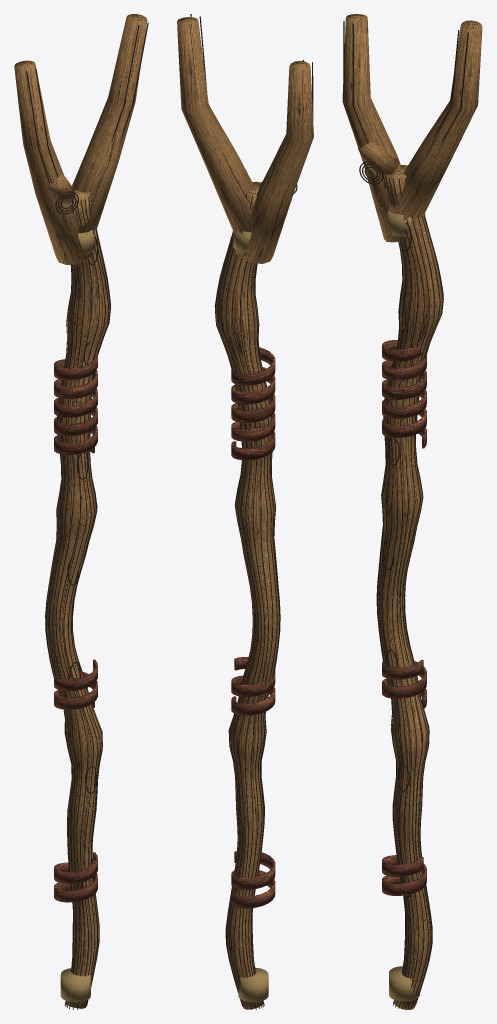
File: WM-03-raw-wood-staff.glb
3 renders of one model, left to right at view 1: azimuth 30°, elevation 25°; view 2: azimuth 150°, elevation 25°; view 3: azimuth 330°, elevation 25°, orthographic. The views are drawn at different scales.
Visible parts, largest first — view 1: WM-03_Solid_wood_shaft.001, WM-03_Long_carved_grain.001, WM-03_Fork_branch_1.001, WM-03_Fork_branch_0.001, WM-03_Helical_grip.003, WM-03_Helical_grip.005, WM-03_Helical_grip.004, WM-03_Metal_ferrule.002, WM03_Natural_branch_stub.001, WM-03_Metal_ferrule.003; view 2: WM-03_Solid_wood_shaft.001, WM-03_Long_carved_grain.001, WM-03_Fork_branch_1.001, WM-03_Fork_branch_0.001, WM-03_Helical_grip.003, WM-03_Helical_grip.005, WM-03_Helical_grip.004, WM-03_Metal_ferrule.002; view 3: WM-03_Solid_wood_shaft.001, WM-03_Long_carved_grain.001, WM-03_Fork_branch_1.001, WM-03_Fork_branch_0.001, WM-03_Helical_grip.003, WM-03_Helical_grip.005, WM-03_Helical_grip.004, WM03_Natural_branch_stub.001, WM-03_Metal_ferrule.002, WM-03_Metal_ferrule.003.
Boxes of the visible parts, x1,y1,x2,y2 form: WM-03_Solid_wood_shaft.001: [46, 185, 110, 1008]; WM-03_Long_carved_grain.001: [45, 194, 110, 1009]; WM-03_Fork_branch_1.001: [72, 14, 147, 234]; WM-03_Fork_branch_0.001: [14, 60, 93, 264]; WM-03_Helical_grip.003: [54, 354, 97, 454]; WM-03_Helical_grip.005: [54, 852, 97, 902]; WM-03_Helical_grip.004: [54, 659, 97, 709]; WM-03_Metal_ferrule.002: [60, 968, 90, 1002]; WM03_Natural_branch_stub.001: [48, 173, 75, 204]; WM-03_Metal_ferrule.003: [78, 230, 95, 255]; WM-03_Solid_wood_shaft.001: [215, 181, 279, 1009]; WM-03_Long_carved_grain.001: [214, 194, 280, 1009]; WM-03_Fork_branch_1.001: [177, 17, 254, 235]; WM-03_Fork_branch_0.001: [235, 61, 313, 263]; WM-03_Helical_grip.003: [231, 347, 275, 460]; WM-03_Helical_grip.005: [231, 851, 275, 908]; WM-03_Helical_grip.004: [231, 657, 275, 715]; WM-03_Metal_ferrule.002: [238, 967, 268, 1002]; WM-03_Solid_wood_shaft.001: [378, 165, 442, 1009]; WM-03_Long_carved_grain.001: [376, 174, 443, 1009]; WM-03_Fork_branch_1.001: [388, 20, 482, 220]; WM-03_Fork_branch_0.001: [342, 14, 406, 242]; WM-03_Helical_grip.003: [382, 340, 426, 448]; WM-03_Helical_grip.005: [382, 855, 426, 897]; WM-03_Helical_grip.004: [382, 659, 426, 709]; WM03_Natural_branch_stub.001: [358, 141, 399, 176]; WM-03_Metal_ferrule.002: [389, 966, 419, 1001]; WM-03_Metal_ferrule.003: [387, 211, 425, 236].
Bounding box in the file's own units: 0.1978 × 1.41 × 0.0672.
Materials: 4 (2 with a texture image).
